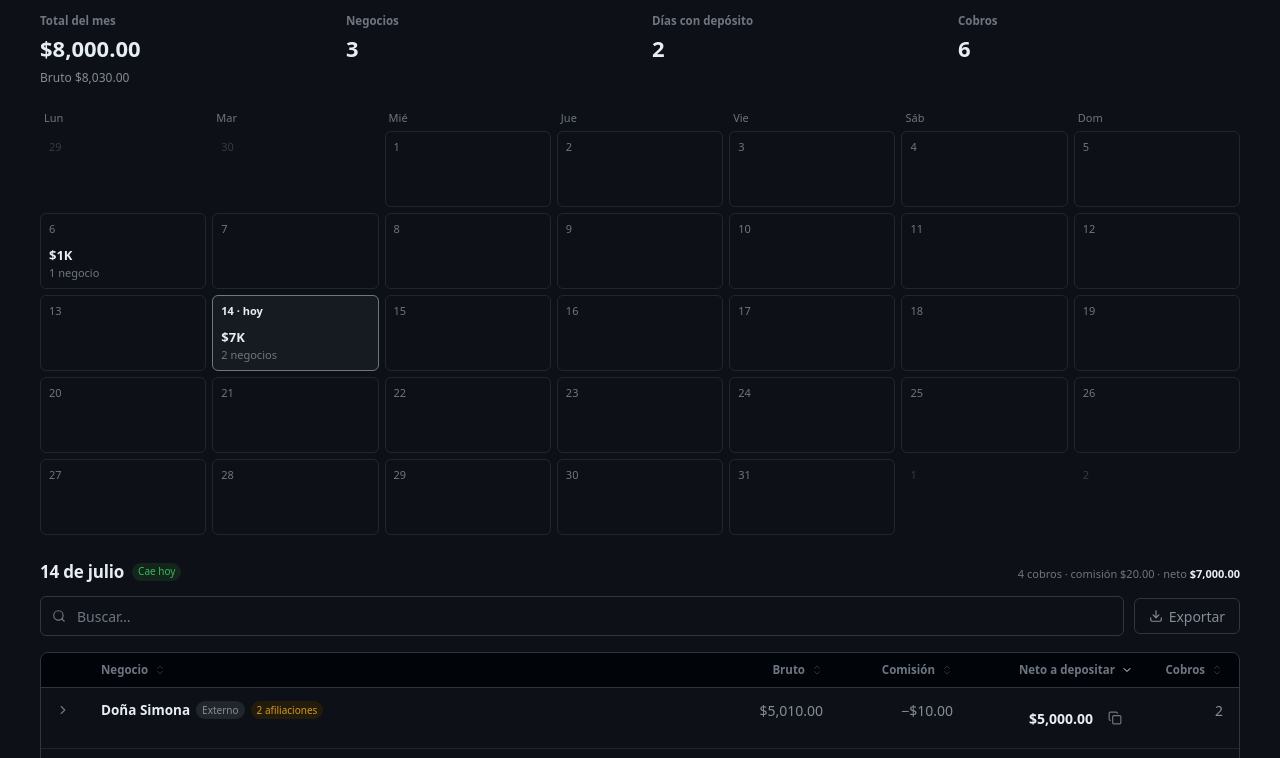
Scenario: SettlementCalendarPage › desglosa un negocio por afiliación al expandir su fila
This screenshot has width=1280, height=758.
Expected: the text "2 afiliaciones" is shown, x1=250 y1=701 x2=323 y2=719
Click the button named "Expandir fila" next to "Doña Simona". click: [63, 710]
box: x1=49 y1=696 x2=77 y2=724
(page scrolled)
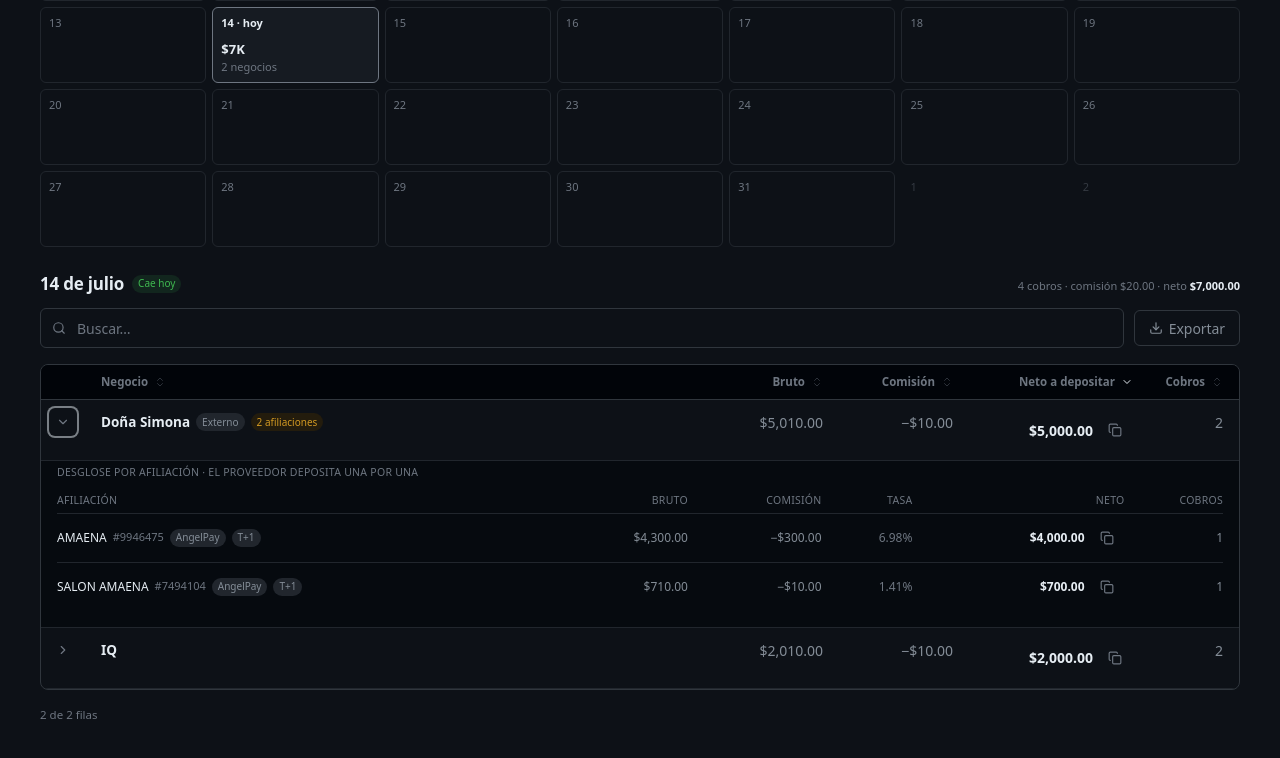
Expected: the text "AMAENA" is shown, x1=57 y1=529 x2=107 y2=547
Expected: the text "#9946475" is shown, x1=113 y1=529 x2=164 y2=546
Expected: the text "$4,000.00" is shown, x1=1030 y1=529 x2=1085 y2=547
